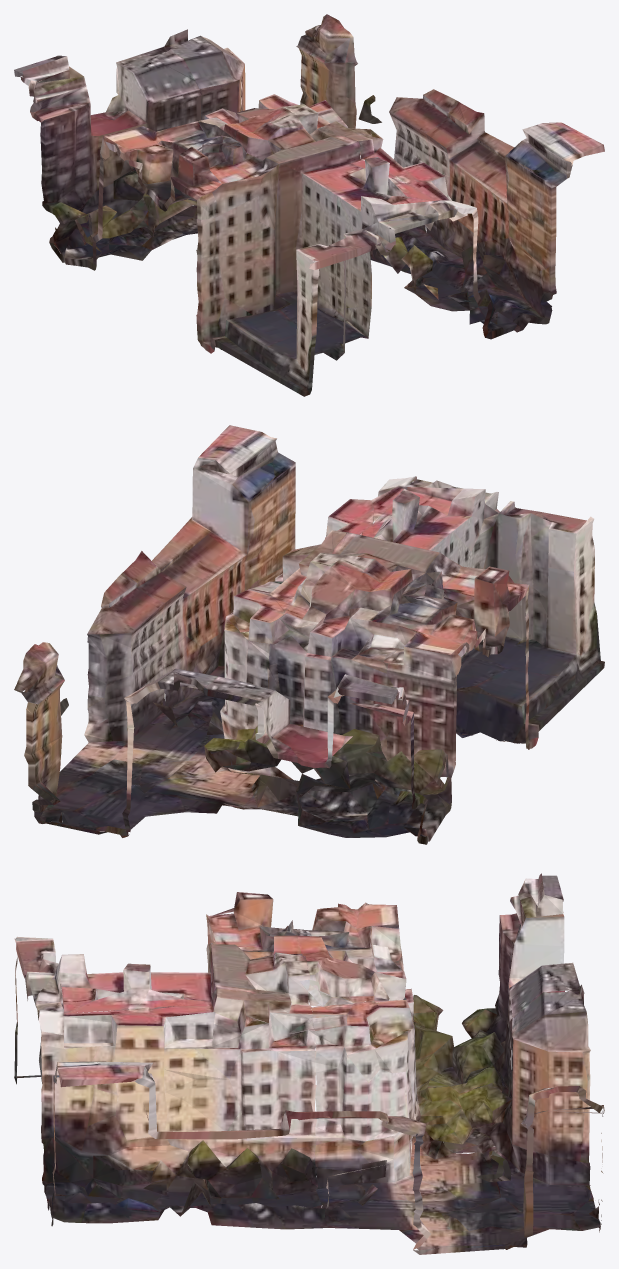
The picture shows the model from 3 angles, top to bottom: view 1: azimuth 30°, elevation 25°; view 2: azimuth 150°, elevation 25°; view 3: azimuth 270°, elevation 25°; orthographic projection. The views are drawn at different scales.
Parts seen in each view (by area): view 1: Mesh_0; view 2: Mesh_0; view 3: Mesh_0.
Part boxes in pixels (<box>): Mesh_0: <box>14,14,604,396</box>; Mesh_0: <box>14,425,604,844</box>; Mesh_0: <box>14,873,604,1254</box>.
Size of the model in its own units: 66.59 by 31.21 by 82.67.
Materials: 1 (1 with a texture image).
